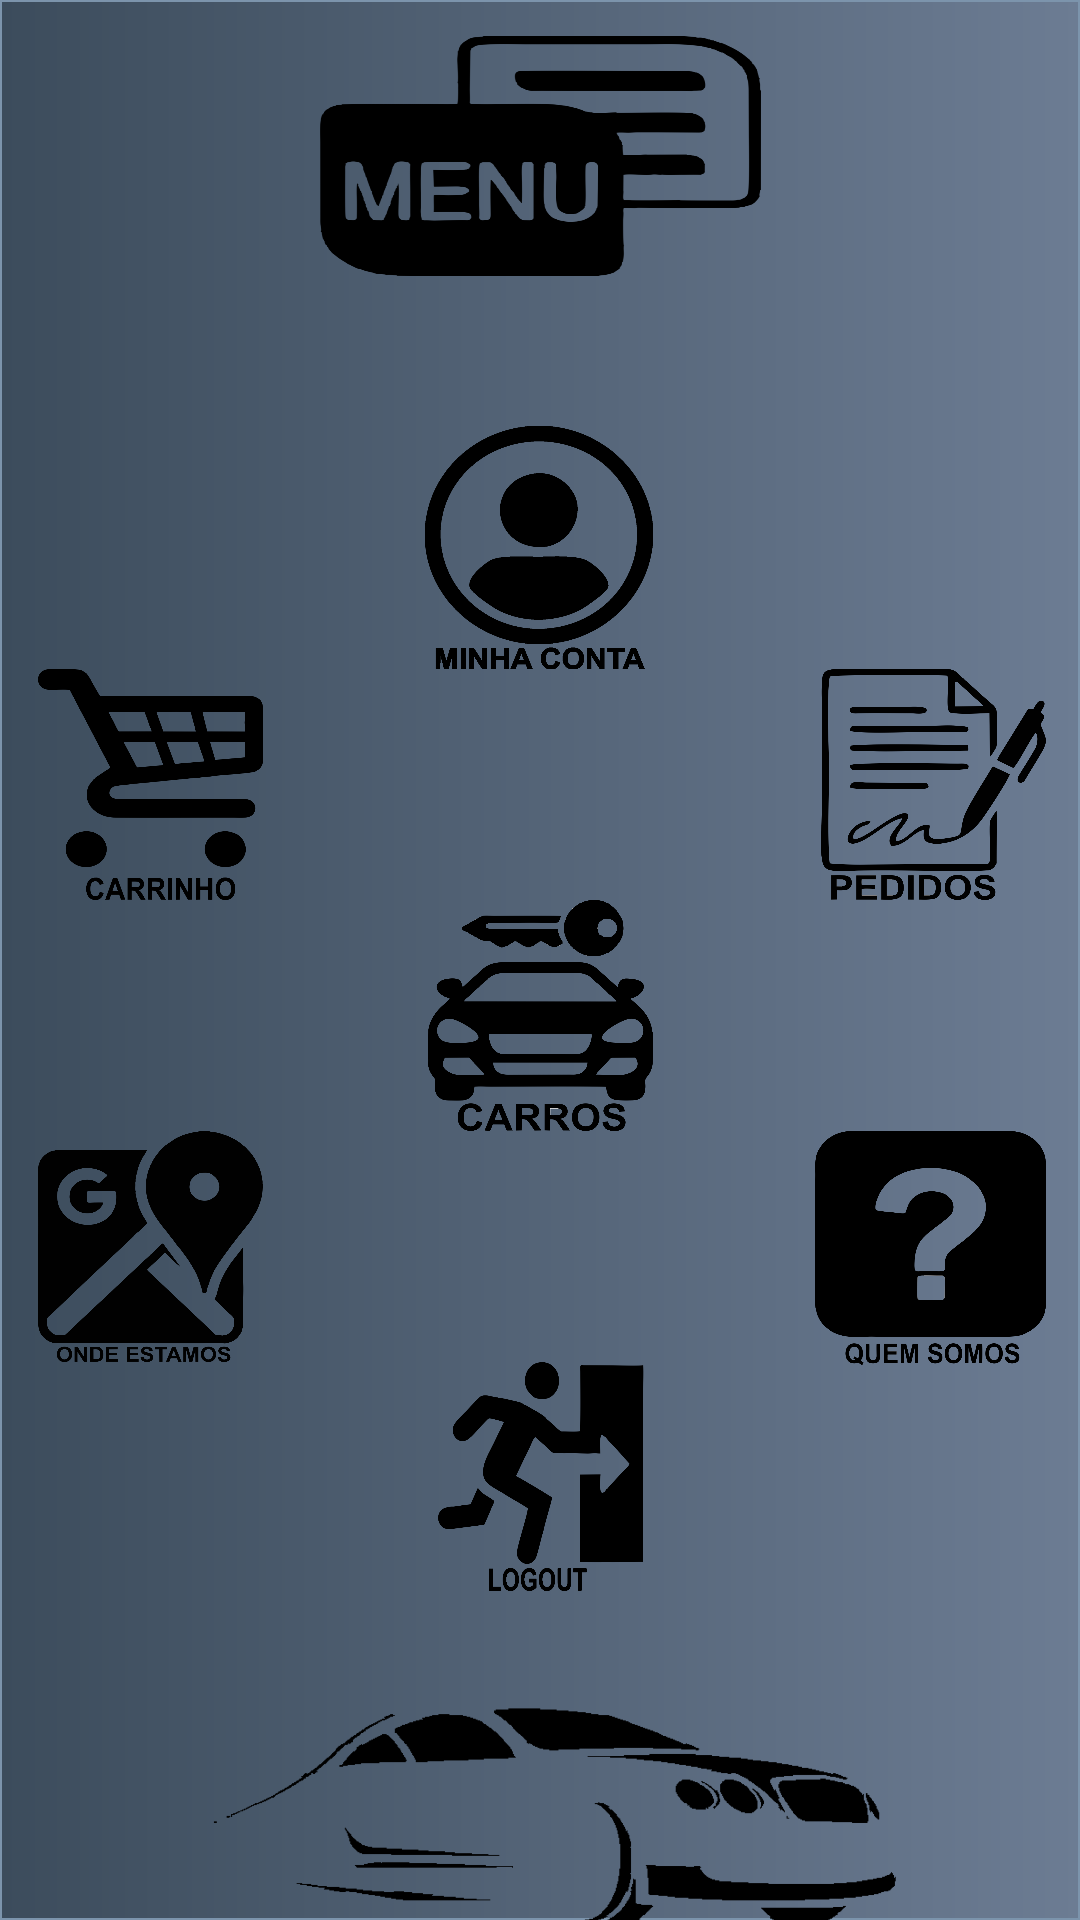

Where to tap for icons on this 1080px×1920px app screen, as (x=x, y=y):
perfil menu: (x=539, y=547)
